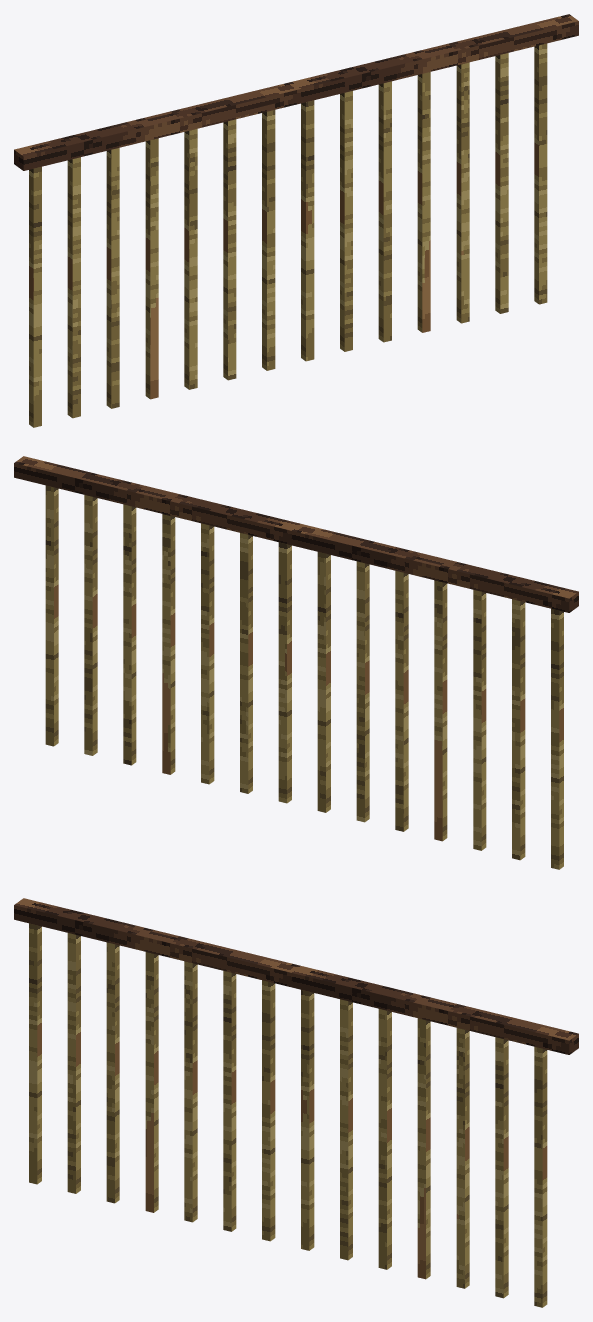
File: RES_Int_StairwellRailing_2m.obj
The picture shows the model from 3 angles, top to bottom: view 1: azimuth 30°, elevation 25°; view 2: azimuth 150°, elevation 25°; view 3: azimuth 330°, elevation 25°; orthographic projection.
Parts seen in each view (by area): view 1: RES_Int_StairwellRailing_2m_Mesh_M_Furn_WoodPainted, RES_Int_StairwellRailing_2m_Mesh_M_Furn_WoodDark; view 2: RES_Int_StairwellRailing_2m_Mesh_M_Furn_WoodPainted, RES_Int_StairwellRailing_2m_Mesh_M_Furn_WoodDark; view 3: RES_Int_StairwellRailing_2m_Mesh_M_Furn_WoodPainted, RES_Int_StairwellRailing_2m_Mesh_M_Furn_WoodDark.
Part boxes in pixels (left/top/right/bottom): RES_Int_StairwellRailing_2m_Mesh_M_Furn_WoodPainted: left=29, top=43, right=547, bottom=427; RES_Int_StairwellRailing_2m_Mesh_M_Furn_WoodDark: left=14, top=14, right=578, bottom=170; RES_Int_StairwellRailing_2m_Mesh_M_Furn_WoodPainted: left=45, top=485, right=563, bottom=869; RES_Int_StairwellRailing_2m_Mesh_M_Furn_WoodDark: left=14, top=456, right=578, bottom=612; RES_Int_StairwellRailing_2m_Mesh_M_Furn_WoodPainted: left=29, top=923, right=547, bottom=1307; RES_Int_StairwellRailing_2m_Mesh_M_Furn_WoodDark: left=14, top=898, right=578, bottom=1054.
Size of the model in its own units: 2 by 0.95 by 0.06.
Materials: 2 (2 with a texture image).
